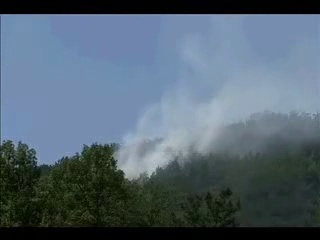smoke: (185, 14, 291, 163), (108, 99, 194, 184)
